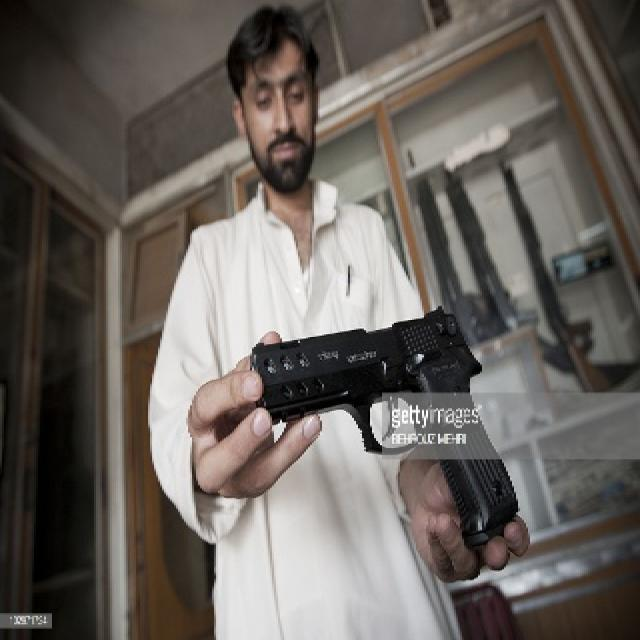handgun: (249, 304, 521, 548)
